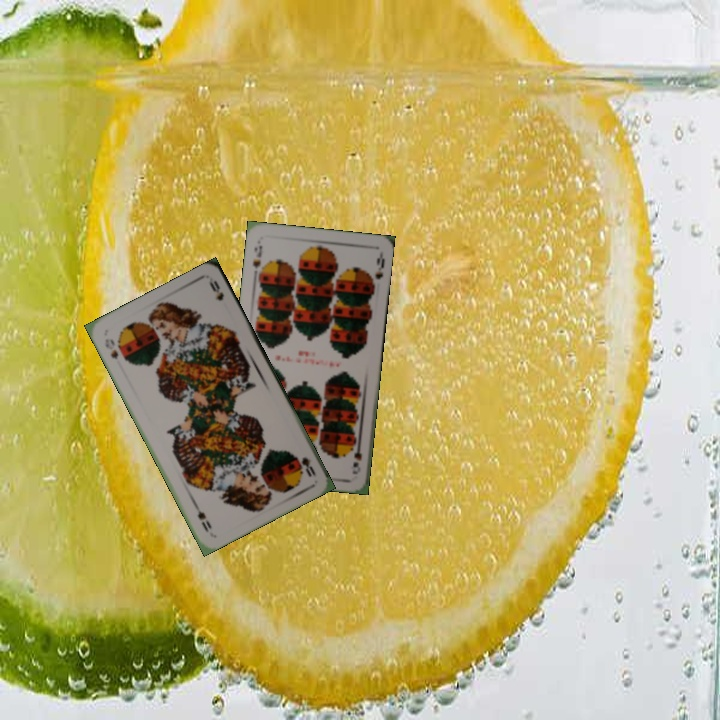S9: (348, 436, 364, 477), (249, 241, 265, 277)
SO: (291, 450, 319, 480), (101, 334, 121, 362)
